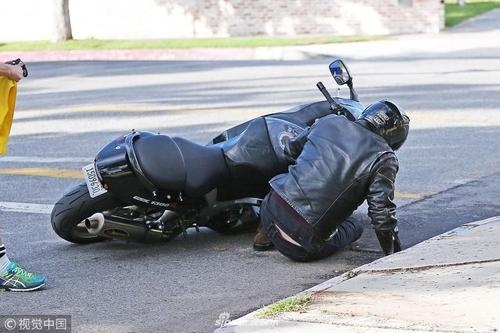falling: (248, 91, 416, 269)
